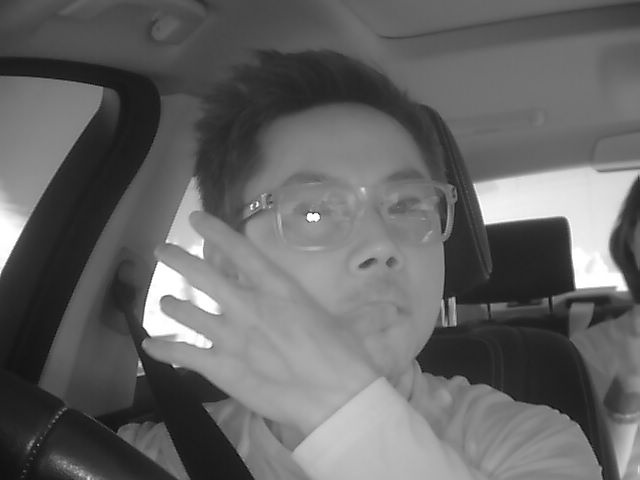hand: (144, 215, 320, 440)
